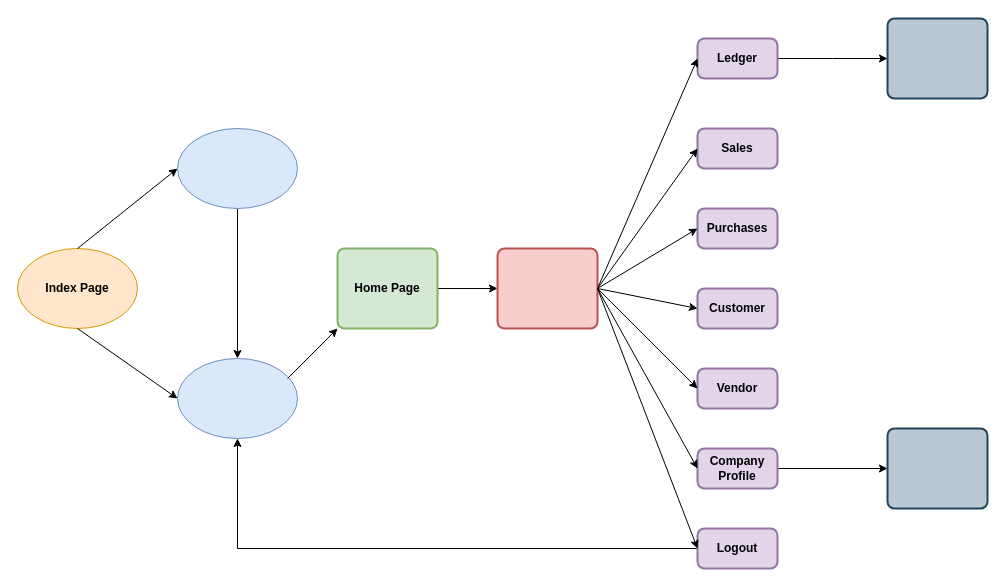
Some shapes in this 1006 by 586 pixel diagram are drawn without their labels. Here are the shapes that lost their labels. From the top down, the box of each, then its label:
(886, 17, 988, 99): Ledger Entry
(176, 128, 298, 208): Sign Up
(496, 247, 598, 329): Dashboard
(176, 358, 298, 438): Sign In
(886, 427, 988, 509): Company Details
